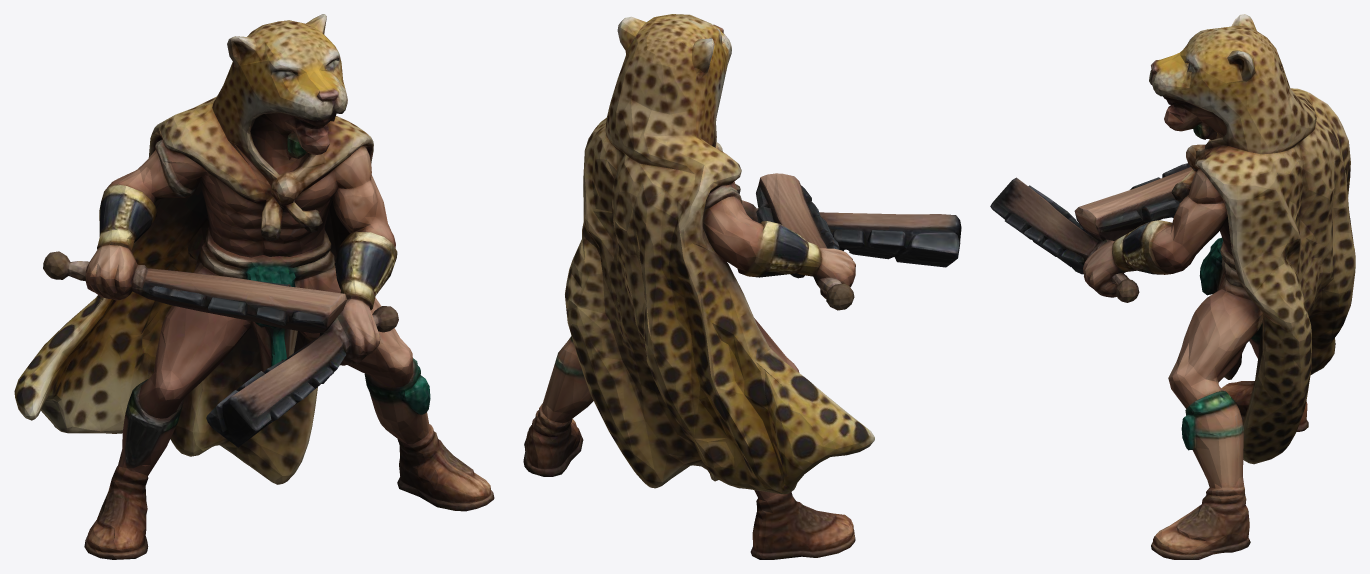
Rendered from jaguarCohortElite.glb.
The picture shows the model from 3 angles, left to right: view 1: azimuth 30°, elevation 25°; view 2: azimuth 150°, elevation 25°; view 3: azimuth 270°, elevation 25°; orthographic projection. The views are drawn at different scales.
Parts seen in each view (by area): view 1: world; view 2: world; view 3: world.
Part boxes in pixels (x1,y1,x2,y2): world: (14,14,494,559); world: (523,14,961,559); world: (990,14,1355,559).
Size of the model in its own units: 0.8667 by 0.9962 by 0.7281.
1 material, 1 textured.
